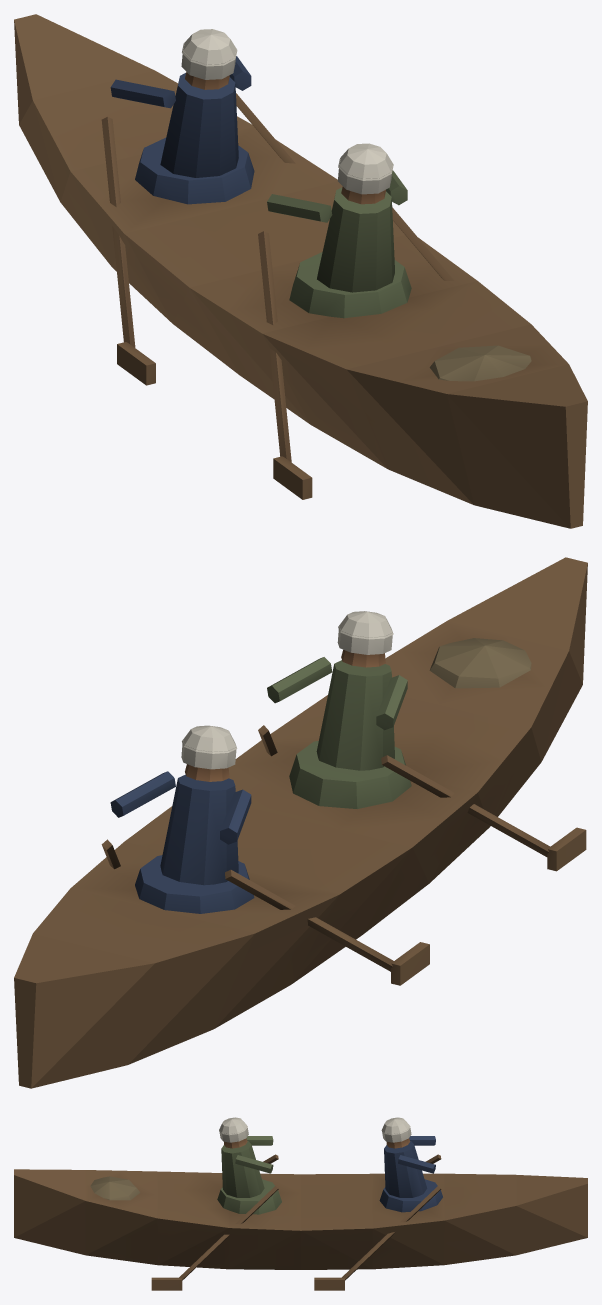
The model's file is skiff.glb.
The picture shows the model from 3 angles, top to bottom: view 1: azimuth 30°, elevation 25°; view 2: azimuth 150°, elevation 25°; view 3: azimuth 270°, elevation 25°; orthographic projection. The views are drawn at different scales.
Parts seen in each view (by area): view 1: base; view 2: base; view 3: base.
Boxes of the visible parts, x1,y1,x2,y2 form: base: (14,14,587,528); base: (14,557,587,1088); base: (14,1117,587,1290).
Size of the model in its own units: 1.78 by 1.56 by 6.
